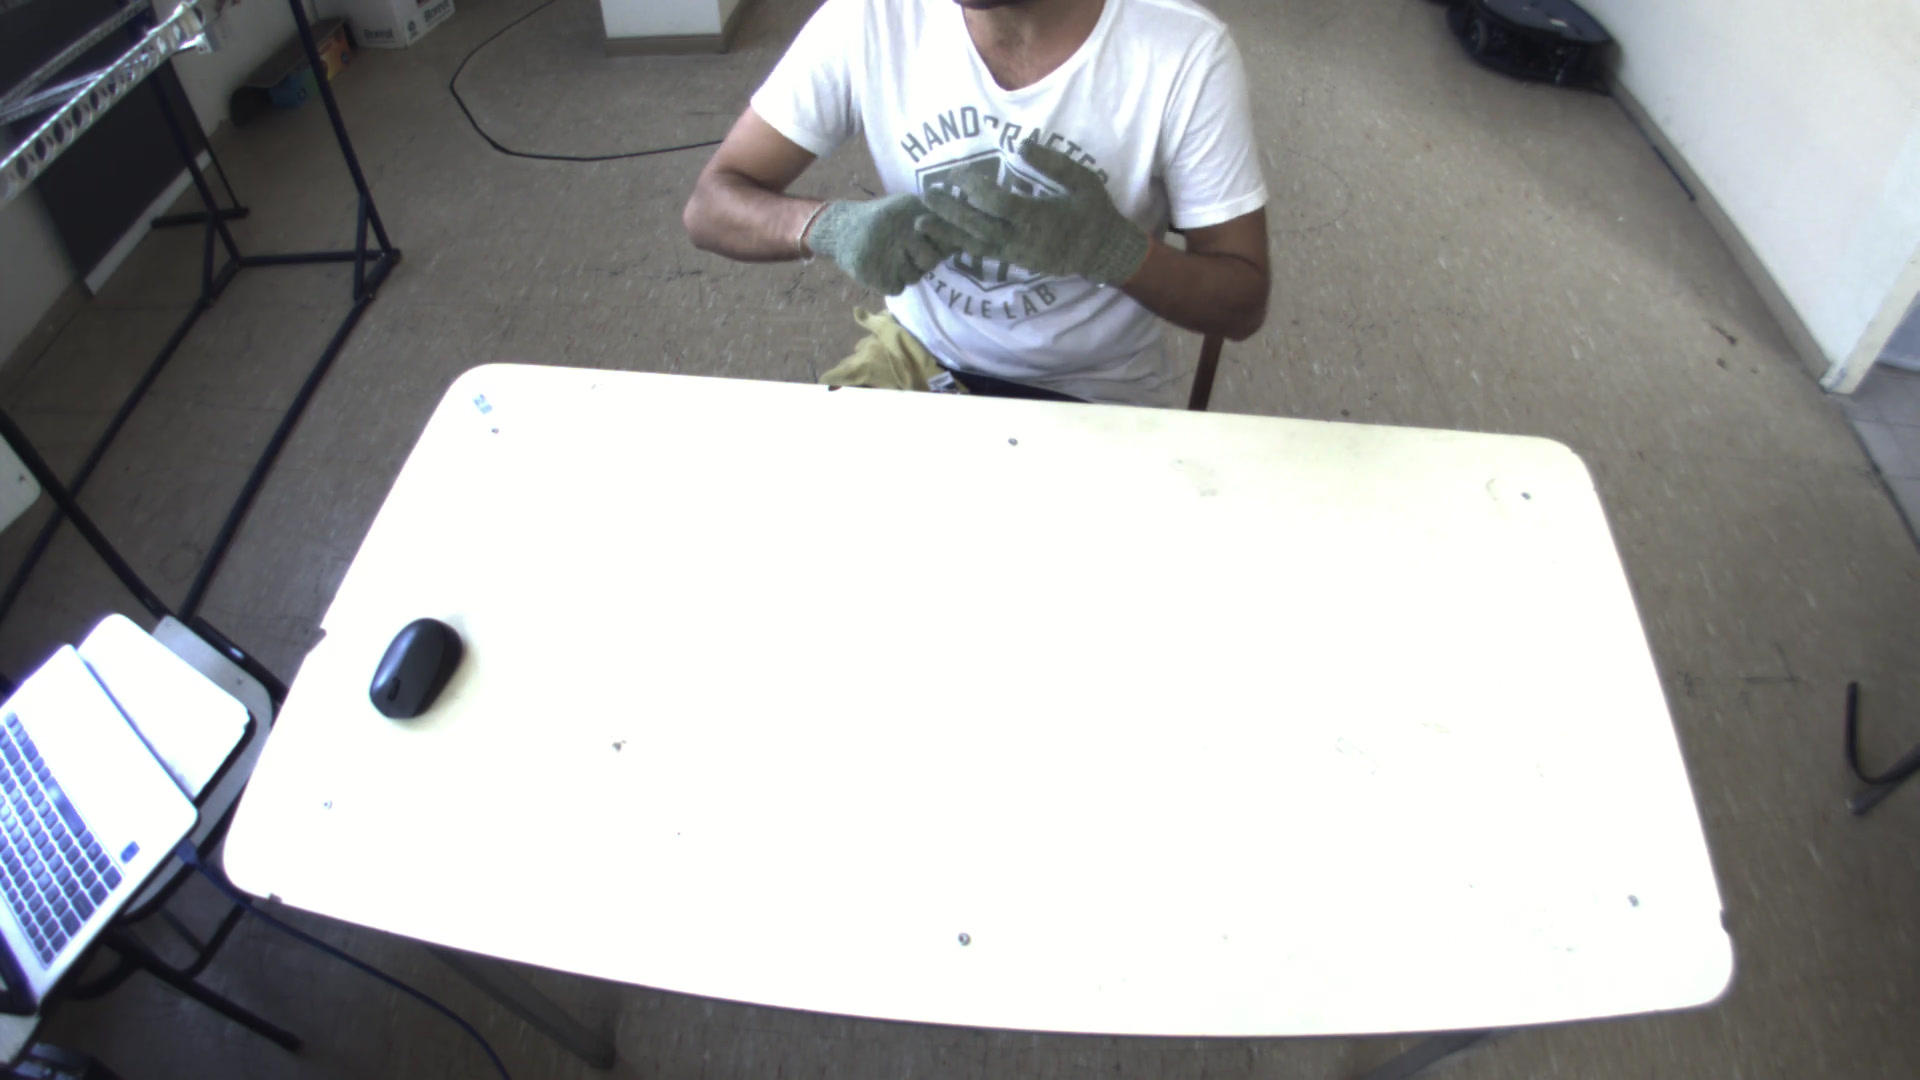hand: (903, 127, 1149, 274), (799, 181, 955, 291)
